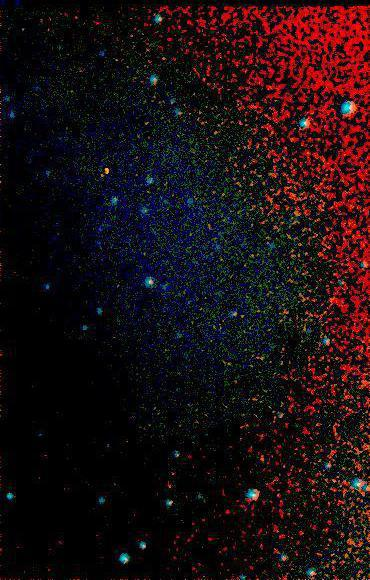star: (213, 497, 243, 527)
